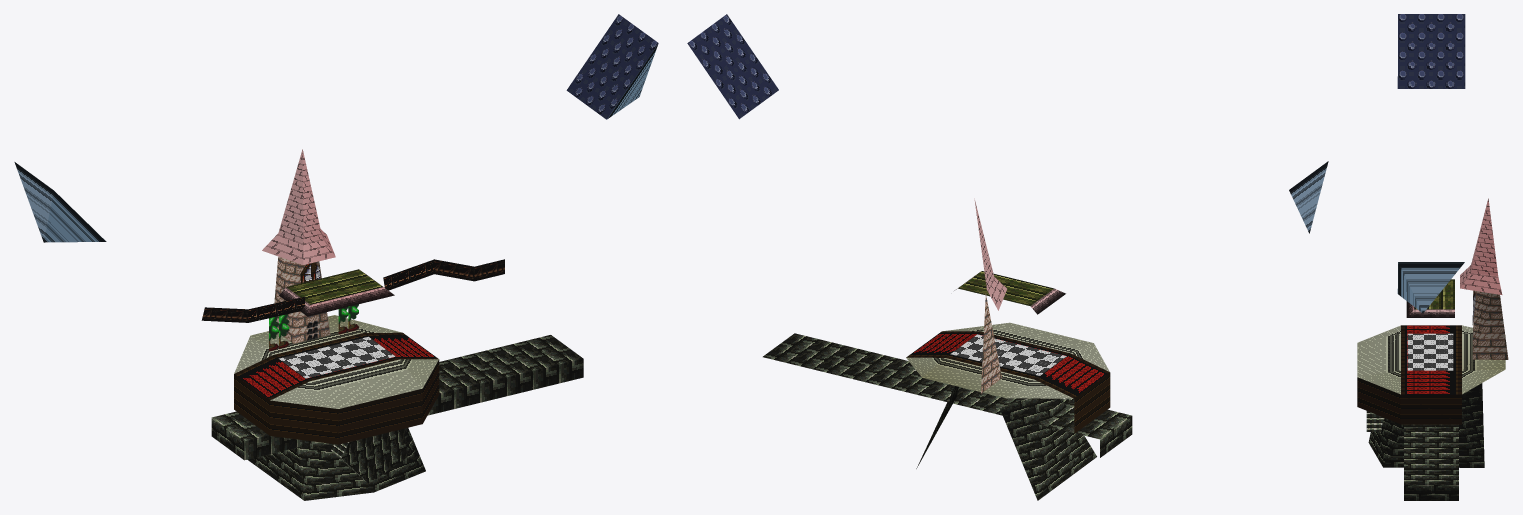
The model's file is Peach'sCastle.glb.
3 views of the same model, side by side, from view 1: azimuth 30°, elevation 25°; view 2: azimuth 150°, elevation 25°; view 3: azimuth 270°, elevation 25° (orthographic). The views are drawn at different scales.
Parts seen in each view (by area): view 1: Peach'sCastle_8, Peach'sCastle_12, Peach'sCastle_20, Peach'sCastle_13, Peach'sCastle_19, Peach'sCastle_6, Peach'sCastle_0, Peach'sCastle_10, Peach'sCastle_22, Peach'sCastle_14, Peach'sCastle_2, Peach'sCastle_11 (+2 smaller); view 2: Peach'sCastle_8, Peach'sCastle_20, Peach'sCastle_0, Peach'sCastle_13, Peach'sCastle_14, Peach'sCastle_22, Peach'sCastle_11, Peach'sCastle_12, Peach'sCastle_19, Peach'sCastle_2, Peach'sCastle_6; view 3: Peach'sCastle_8, Peach'sCastle_20, Peach'sCastle_12, Peach'sCastle_13, Peach'sCastle_19, Peach'sCastle_0, Peach'sCastle_2, Peach'sCastle_6, Peach'sCastle_14, Peach'sCastle_22, Peach'sCastle_18, Peach'sCastle_11 (+2 smaller).
Part boxes in pixels (box(x1,y1,x2,y2)): Peach'sCastle_8: box(212, 335, 583, 500); Peach'sCastle_12: box(234, 359, 439, 444); Peach'sCastle_20: box(566, 14, 658, 119); Peach'sCastle_13: box(234, 332, 438, 400); Peach'sCastle_19: box(14, 44, 658, 242); Peach'sCastle_6: box(262, 149, 335, 264); Peach'sCastle_0: box(234, 315, 438, 408); Peach'sCastle_10: box(201, 259, 504, 322); Peach'sCastle_22: box(310, 359, 422, 408); Peach'sCastle_14: box(279, 336, 395, 378); Peach'sCastle_2: box(274, 256, 330, 343); Peach'sCastle_11: box(286, 269, 382, 304); Peach'sCastle_8: box(763, 333, 1131, 500); Peach'sCastle_20: box(687, 14, 778, 119); Peach'sCastle_0: box(906, 322, 1109, 398); Peach'sCastle_13: box(906, 331, 1109, 398); Peach'sCastle_14: box(950, 334, 1066, 375); Peach'sCastle_22: box(981, 322, 1093, 353); Peach'sCastle_11: box(958, 271, 1053, 305); Peach'sCastle_12: box(1074, 372, 1110, 433); Peach'sCastle_19: box(1289, 161, 1328, 233); Peach'sCastle_2: box(981, 293, 1001, 393); Peach'sCastle_6: box(974, 198, 1006, 310); Peach'sCastle_8: box(1368, 383, 1484, 484); Peach'sCastle_20: box(1397, 14, 1465, 88); Peach'sCastle_12: box(1357, 377, 1461, 424); Peach'sCastle_13: box(1401, 325, 1461, 394); Peach'sCastle_19: box(1397, 262, 1464, 313); Peach'sCastle_0: box(1358, 325, 1505, 394); Peach'sCastle_2: box(1472, 291, 1508, 359); Peach'sCastle_6: box(1460, 198, 1502, 294); Peach'sCastle_14: box(1407, 333, 1453, 370); Peach'sCastle_22: box(1357, 333, 1400, 377); Peach'sCastle_18: box(1404, 485, 1458, 500); Peach'sCastle_11: box(1414, 279, 1454, 309).
Bounding box in the file's own units: 1043 × 598 × 269.
23 materials, 23 textured.
